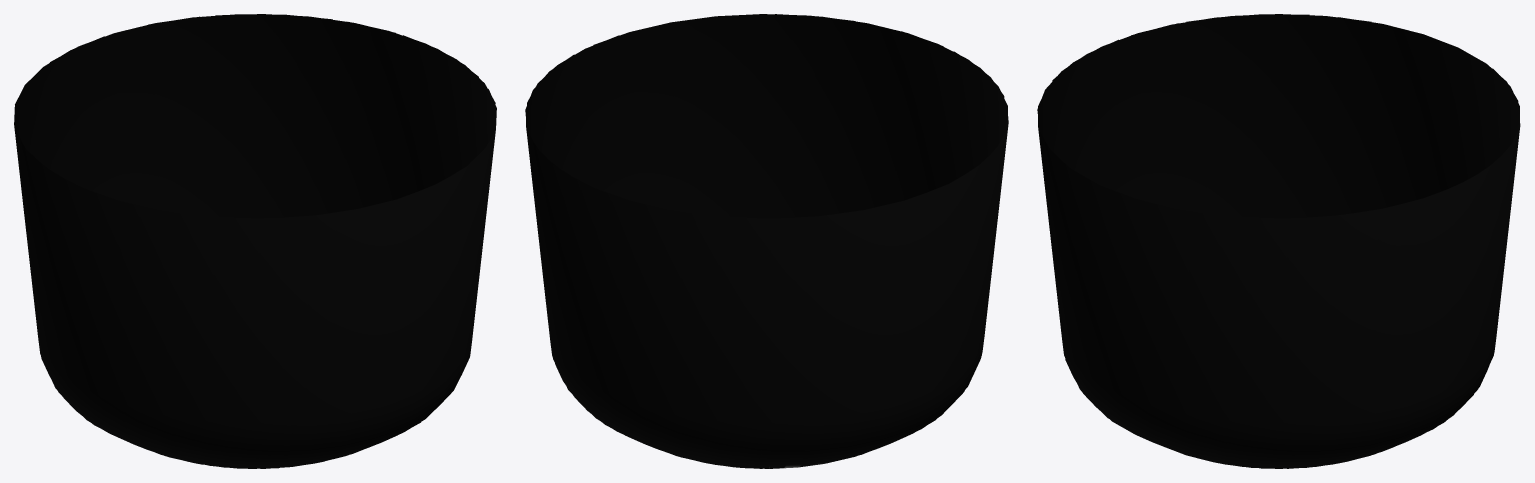
The model's file is p_mesh_plasmadrill_laserbeam_diameter_trail01_pose0.fbx.
The picture shows the model from 3 angles, left to right: view 1: azimuth 30°, elevation 25°; view 2: azimuth 150°, elevation 25°; view 3: azimuth 270°, elevation 25°; orthographic projection.
Parts seen in each view (by area): view 1: plasmadrill_diameter_pose0; view 2: plasmadrill_diameter_pose0; view 3: plasmadrill_diameter_pose0.
Part boxes in pixels (x1,y1,x2,y2): plasmadrill_diameter_pose0: (14, 14, 496, 468); plasmadrill_diameter_pose0: (525, 14, 1008, 468); plasmadrill_diameter_pose0: (1037, 14, 1520, 468).
Bounding box in the file's own units: 31.25 × 22.37 × 31.18.
Materials: 2 (2 with a texture image).
